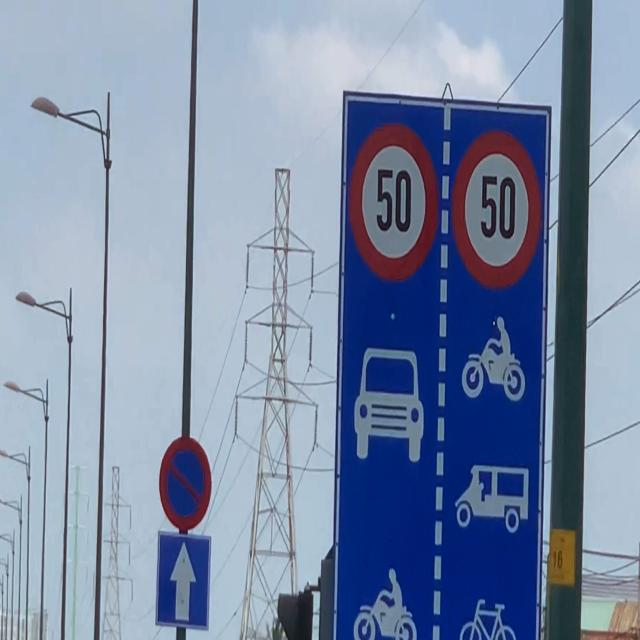Cam do: (159, 435, 212, 531)
Chi dan: (153, 530, 211, 632)
Toc do toi da: (348, 121, 439, 283), (452, 128, 542, 290)
